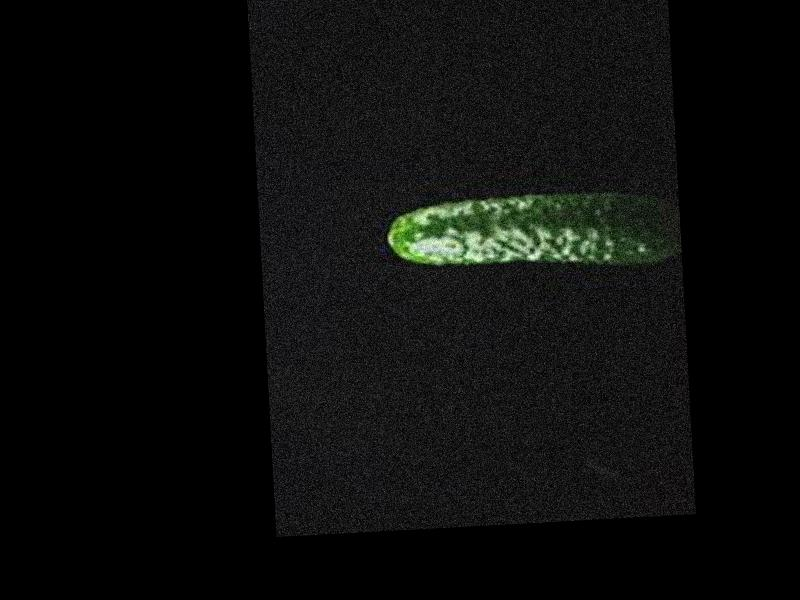Cucumber: (383, 186, 682, 278)
